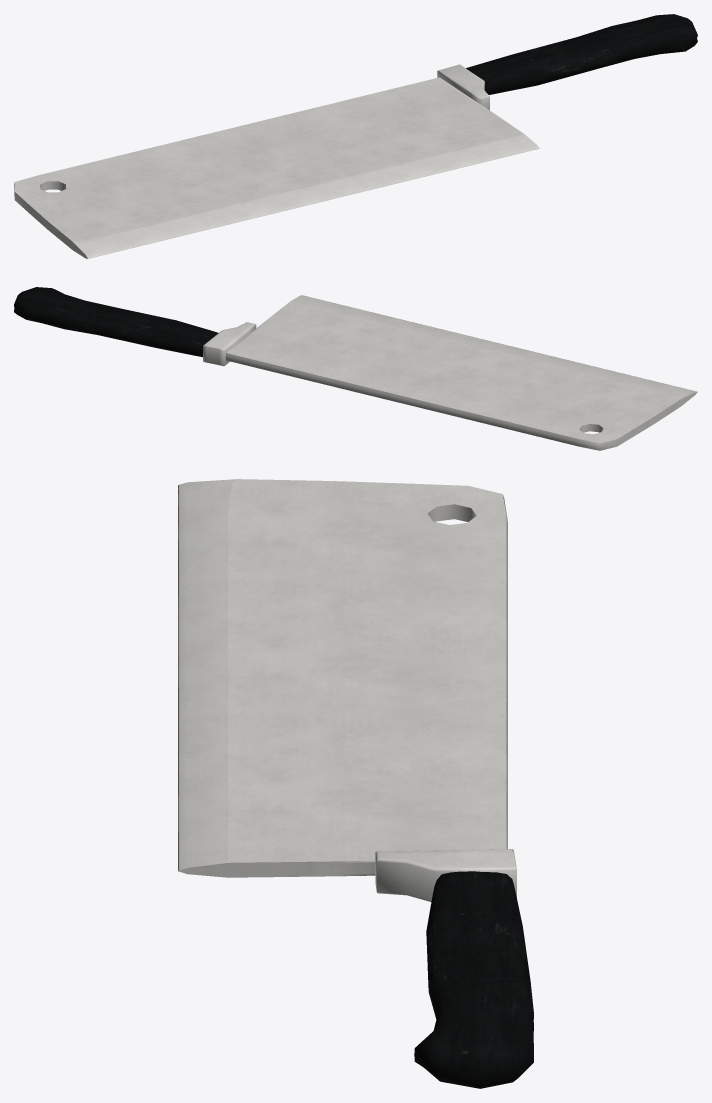
Rendered from Cleaver_Kinfe.fbx.
3 views of the same model, one above another, from view 1: azimuth 30°, elevation 25°; view 2: azimuth 150°, elevation 25°; view 3: azimuth 270°, elevation 25° (orthographic). The views are drawn at different scales.
Parts seen in each view (by area): view 1: Cleaver_Knife; view 2: Cleaver_Knife; view 3: Cleaver_Knife.
Boxes of the visible parts, box(x1,y1,x2,y2) form: Cleaver_Knife: box(14, 14, 697, 258); Cleaver_Knife: box(14, 287, 697, 450); Cleaver_Knife: box(178, 479, 533, 1088).
Size of the model in its own units: 743 by 30.4 by 190.
3 materials, 3 textured.
